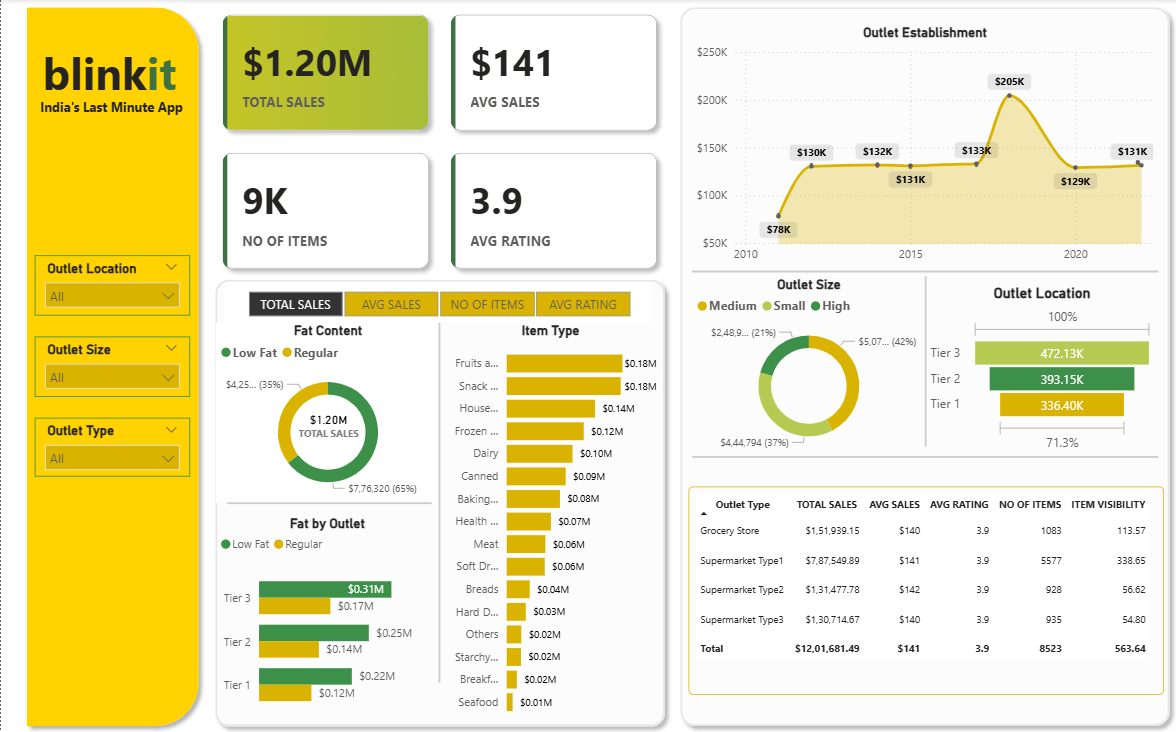

The dashboard page shown, as its layout file describes it:
{"tool":"powerbi","page":{"name":"Dashboard","canvas":[1280,800],"ordinal":0},"visuals":[{"type":"shape","box":[18.8,0,204.9,799.3],"z":0},{"type":"textbox","box":[33.3,41.7,168.3,93.3],"z":1000},{"type":"textbox","box":[18.3,103.3,205,53.3],"z":2000},{"type":"cardVisual","fields":{"Data":["BlinkIT Grocery Data.Total Sales","BlinkIT Grocery Data.Avg. Sales","BlinkIT Grocery Data.No of Items","BlinkIT Grocery Data.Avg. Rating"]},"box":[223.6,0,506.4,311.6],"z":3000},{"type":"shape","box":[223.6,295.8,506.4,503.5],"z":4000},{"type":"donutChart","title":"Fat Content","fields":{"Y":["BlinkIT Grocery Data.TOTAL SALES"],"Category":["BlinkIT Grocery Data.Item Fat Content"]},"box":[233.7,352,243.8,196.2],"z":5000},{"type":"slicer","fields":{"Values":["Matrics.Matrics"]},"box":[243.8,311.6,464.6,40.4],"z":6000},{"type":"cardVisual","fields":{"Data":["BlinkIT Grocery Data.TOTAL SALES"]},"box":[301.5,424.2,109.6,80.8],"z":7000},{"type":"clusteredBarChart","title":"Fat by Outlet","fields":{"Y":["BlinkIT Grocery Data.TOTAL SALES"],"Category":["BlinkIT Grocery Data.Outlet Location Type"],"Series":["BlinkIT Grocery Data.Item Fat Content"]},"box":[233.7,561.2,242.4,228],"z":8000},{"type":"barChart","title":"Item Type","fields":{"Y":["BlinkIT Grocery Data.TOTAL SALES"],"Category":["BlinkIT Grocery Data.Item Type"]},"box":[477.6,352,240.9,437.2],"z":9000},{"type":"shape","box":[447.3,352,59.2,391],"z":10000},{"type":"shape","box":[245.3,516.5,222.2,63.5],"z":11000},{"type":"shape","box":[730,0,549.7,799.3],"z":12000},{"type":"lineChart","title":"Outlet Establishment","fields":{"Category":["BlinkIT Grocery Data.Outlet Establishment Year"],"Y":["BlinkIT Grocery Data.TOTAL SALES"]},"box":[751.7,27.4,506.4,268.4],"z":13000},{"type":"shape","box":[751.7,261.1,506.4,70.7],"z":14000},{"type":"donutChart","title":"Outlet Size","fields":{"Category":["BlinkIT Grocery Data.Outlet Size"],"Y":["BlinkIT Grocery Data.TOTAL SALES"]},"box":[751.7,301.5,253.9,196.2],"z":15000},{"type":"funnel","title":"Outlet Location ","fields":{"Category":["BlinkIT Grocery Data.Outlet Location Type"],"Y":["Sum(BlinkIT Grocery Data.Sales)"]},"box":[1005.6,311.6,252.5,186.1],"z":16000},{"type":"shape","box":[975.3,301.5,59.2,184.7],"z":17000},{"type":"shape","box":[751.7,466,506.4,63.5],"z":18000},{"type":"pivotTable","fields":{"Rows":["BlinkIT Grocery Data.Outlet Type"],"Values":["BlinkIT Grocery Data.TOTAL SALES","BlinkIT Grocery Data.AVG SALES","BlinkIT Grocery Data.AVG RATING","BlinkIT Grocery Data.NO OF ITEMS","Sum(BlinkIT Grocery Data.Item Visibility)"]},"box":[747.4,529.5,516.5,226.5],"z":19000},{"type":"slicer","fields":{"Values":["BlinkIT Grocery Data.Outlet Location Type"]},"box":[36.7,278.5,168.5,65.2],"z":20000},{"type":"slicer","fields":{"Values":["BlinkIT Grocery Data.Outlet Size"]},"box":[36.7,366.8,168.5,65.2],"z":21000},{"type":"slicer","fields":{"Values":["BlinkIT Grocery Data.Outlet Type"]},"box":[36.7,455.2,168.5,63.9],"z":22000}]}

Visuals, with their boxes in screenshot pixels (x1, y1, x2, y2), scaled from the page's 1280x800 canvas onto the 1176x732 screenshot:
shape: rect(17, 0, 206, 731)
textbox: rect(31, 38, 185, 124)
textbox: rect(17, 95, 205, 143)
cardVisual - BlinkIT Grocery Data.Total Sales x BlinkIT Grocery Data.Avg. Sales: rect(205, 0, 671, 285)
shape: rect(205, 271, 671, 731)
"Fat Content" donutChart: rect(215, 322, 439, 502)
slicer - Matrics.Matrics: rect(224, 285, 651, 322)
cardVisual - BlinkIT Grocery Data.TOTAL SALES: rect(277, 388, 378, 462)
"Fat by Outlet" clusteredBarChart: rect(215, 513, 437, 722)
"Item Type" barChart: rect(439, 322, 660, 722)
shape: rect(411, 322, 465, 680)
shape: rect(225, 473, 430, 531)
shape: rect(671, 0, 1175, 731)
"Outlet Establishment" lineChart: rect(691, 25, 1156, 271)
shape: rect(691, 239, 1156, 304)
"Outlet Size" donutChart: rect(691, 276, 924, 455)
"Outlet Location " funnel: rect(924, 285, 1156, 455)
shape: rect(896, 276, 950, 445)
shape: rect(691, 426, 1156, 484)
pivotTable - BlinkIT Grocery Data.Outlet Type x BlinkIT Grocery Data.TOTAL SALES: rect(687, 484, 1161, 692)
slicer - BlinkIT Grocery Data.Outlet Location Type: rect(34, 255, 189, 314)
slicer - BlinkIT Grocery Data.Outlet Size: rect(34, 336, 189, 395)
slicer - BlinkIT Grocery Data.Outlet Type: rect(34, 417, 189, 475)
